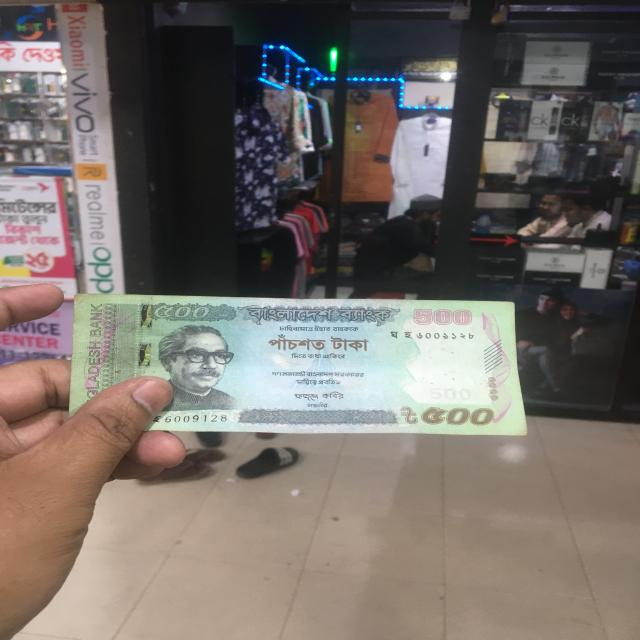Taka: (79, 296, 529, 435)
